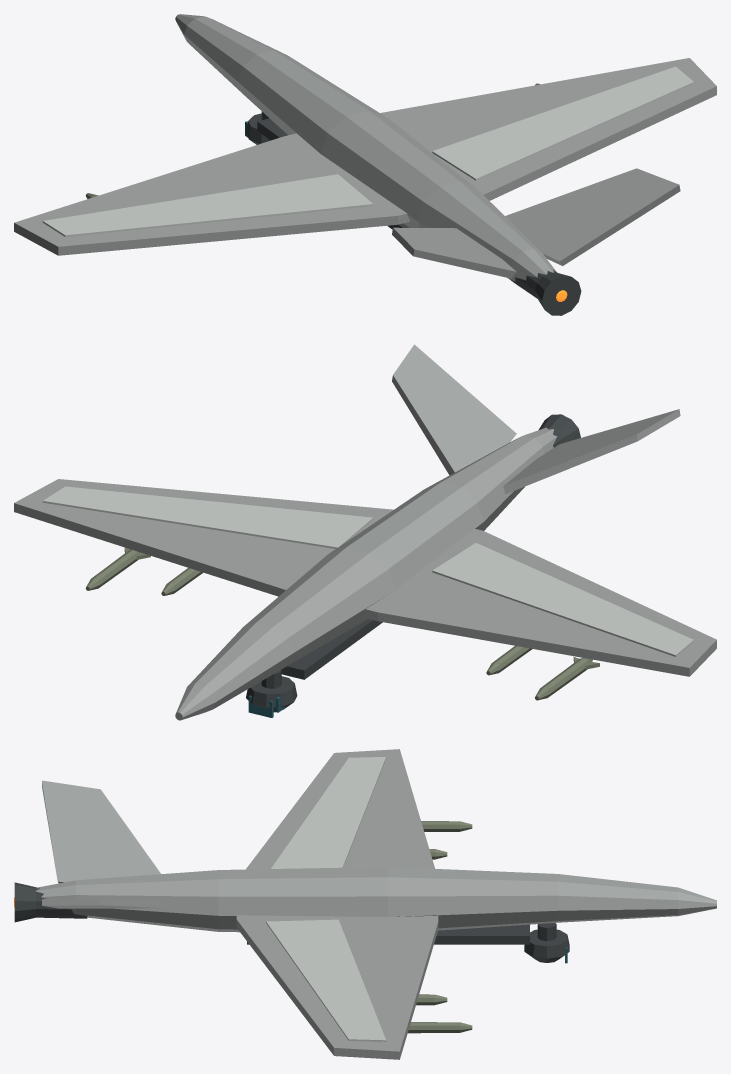
The model's file is reaper-v1.glb.
The picture shows the model from 3 angles, top to bottom: view 1: azimuth 30°, elevation 25°; view 2: azimuth 150°, elevation 25°; view 3: azimuth 270°, elevation 25°; orthographic projection. The views are drawn at different scales.
Visible parts, largest first — view 1: reaper-airframe; view 2: reaper-airframe; view 3: reaper-airframe.
Boxes of the visible parts, left/top/right/bottom form: reaper-airframe: left=14, top=14, right=716, bottom=315; reaper-airframe: left=14, top=344, right=716, bottom=720; reaper-airframe: left=14, top=749, right=716, bottom=1059.
Size of the model in its own units: 31.6 by 5.76 by 31.03.
